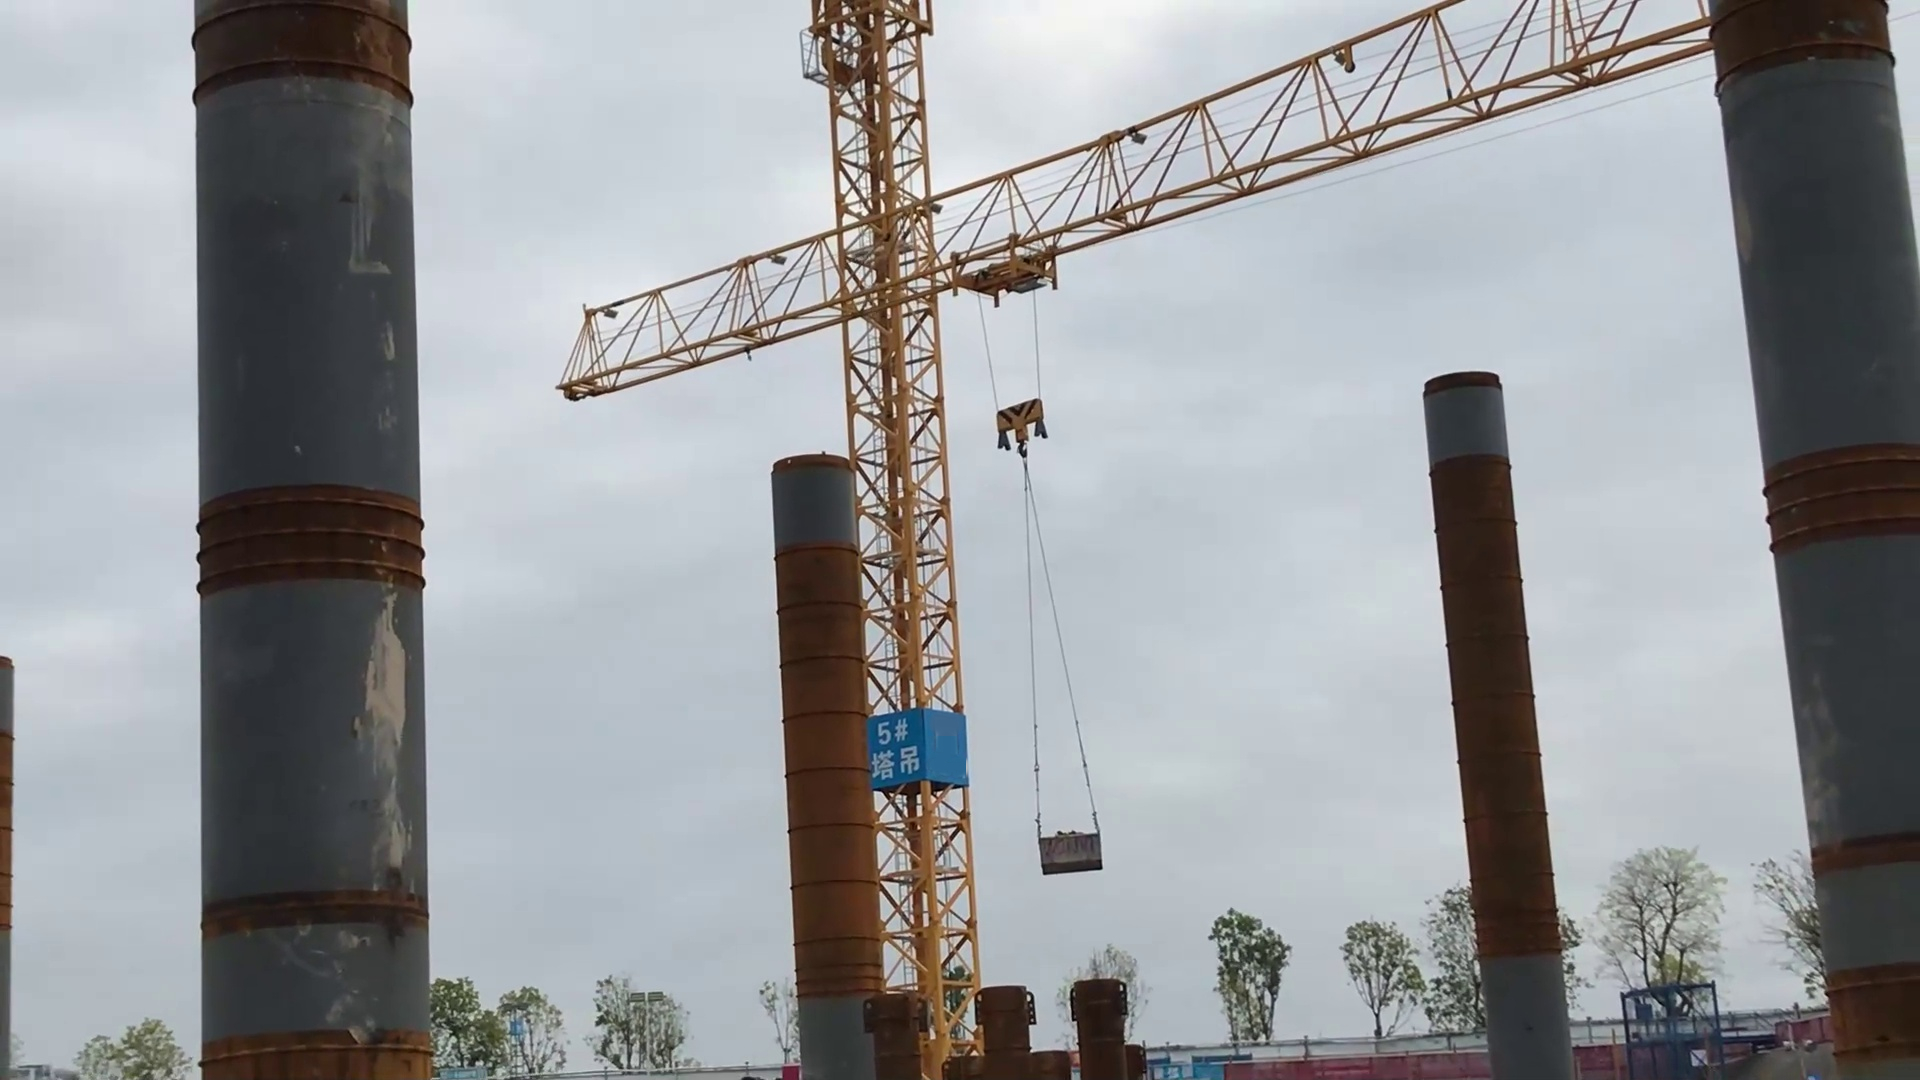hook: (997, 400, 1044, 448)
hopper: (1038, 829, 1102, 874)
